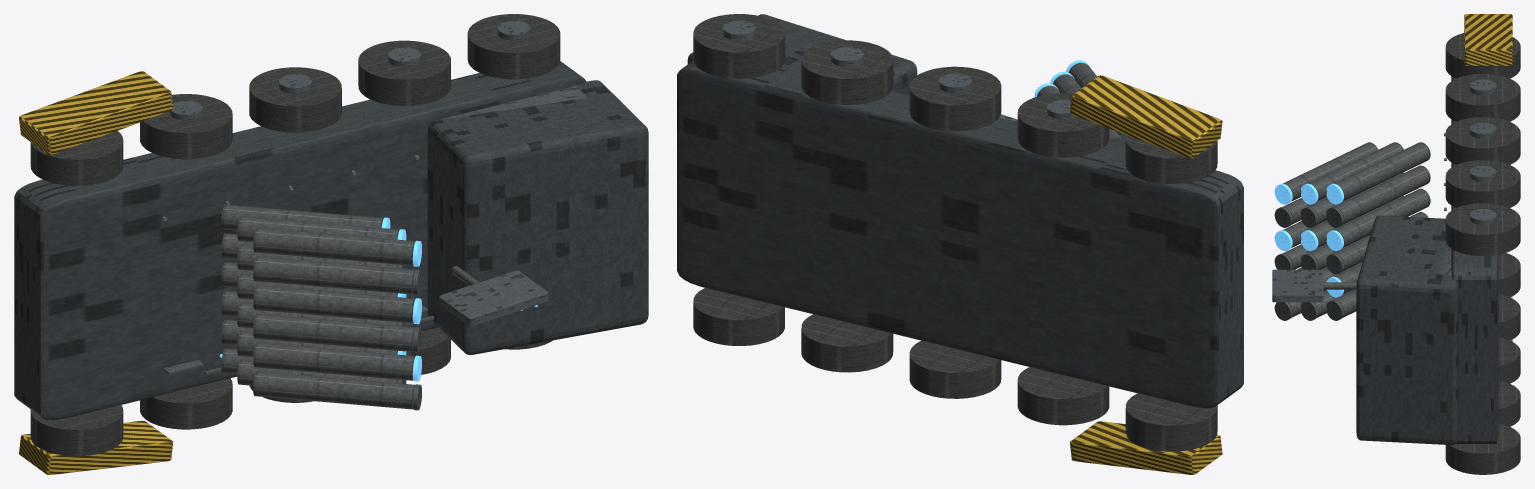
File: s-x03-specter-drone-lod0.glb
3 renders of one model, left to right at view 1: azimuth 30°, elevation 25°; view 2: azimuth 150°, elevation 25°; view 3: azimuth 270°, elevation 25°, orthographic. The views are drawn at different scales.
Visible parts, largest first — view 1: strategic_lower, strategic_cab, strategic_jack_1, strategic_wheel_1_4, strategic_wheel_1_2, strategic_wheel_1_3, strategic_wheel_1_1, drone_cells_tube_17, drone_cells_tube_13, drone_cells_tube_16, drone_cells_tube_14, drone_cells_tube_15 (+15 smaller); view 2: strategic_lower, strategic_jack_1, strategic_wheel_1_3, strategic_wheel_1_2, strategic_wheel_1_4, strategic_jack_-1, strategic_wheel_-1_0, strategic_wheel_-1_1, strategic_wheel_-1_3, strategic_wheel_-1_2, strategic_wheel_-1_4, strategic_wheel_1_1 (+3 smaller); view 3: strategic_cab, strategic_lower, strategic_wheel_1_4, strategic_wheel_1_3, strategic_wheel_1_2, strategic_wheel_1_1, strategic_jack_1, strategic_wheel_-1_4, drone_cells_tube_5, drone_cells_tube_6, drone_control_array, drone_cells_tube_4 (+35 smaller).
Boxes of the visible parts, x1,y1,x2,y2 form: strategic_lower: [14, 61, 586, 420]; strategic_cab: [427, 80, 648, 354]; strategic_jack_1: [19, 71, 173, 154]; strategic_wheel_1_4: [467, 14, 560, 79]; strategic_wheel_1_2: [249, 67, 341, 132]; strategic_wheel_1_3: [358, 40, 450, 105]; strategic_wheel_1_1: [140, 94, 232, 159]; drone_cells_tube_17: [253, 256, 415, 294]; drone_cells_tube_13: [253, 371, 415, 409]; drone_cells_tube_16: [253, 285, 415, 323]; drone_cells_tube_14: [253, 342, 415, 380]; drone_cells_tube_15: [253, 314, 415, 351]; strategic_lower: [677, 61, 1243, 408]; strategic_jack_1: [1070, 75, 1222, 158]; strategic_wheel_1_3: [801, 40, 893, 104]; strategic_wheel_1_2: [909, 66, 1001, 131]; strategic_wheel_1_4: [693, 14, 784, 78]; strategic_jack_-1: [1070, 421, 1222, 474]; strategic_wheel_-1_0: [1125, 393, 1217, 451]; strategic_wheel_-1_1: [1017, 367, 1109, 425]; strategic_wheel_-1_3: [801, 314, 893, 372]; strategic_wheel_-1_2: [909, 340, 1001, 398]; strategic_wheel_-1_4: [693, 288, 784, 345]; strategic_wheel_1_1: [1017, 93, 1109, 157]; strategic_cab: [1356, 215, 1458, 445]; strategic_lower: [1451, 76, 1498, 443]; strategic_wheel_1_4: [1445, 203, 1520, 256]; strategic_wheel_1_3: [1445, 160, 1520, 207]; strategic_wheel_1_2: [1445, 117, 1520, 164]; strategic_wheel_1_1: [1445, 74, 1520, 121]; strategic_jack_1: [1464, 14, 1512, 65]; strategic_wheel_-1_4: [1445, 423, 1520, 474]; drone_cells_tube_5: [1334, 165, 1430, 224]; drone_cells_tube_6: [1334, 142, 1430, 201]; drone_control_array: [1272, 269, 1323, 302]; drone_cells_tube_4: [1334, 188, 1430, 247].
Size of what is drawn, in the model's own units: 9.12 by 5.72 by 4.32.
7 materials, 7 textured.
